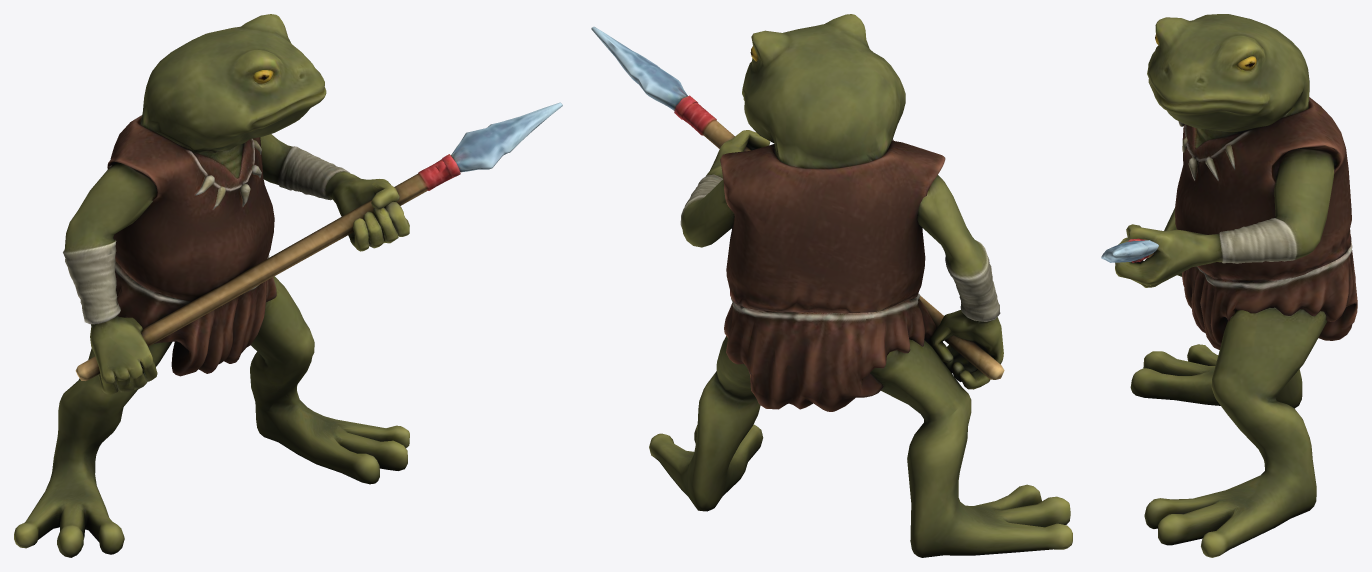
File: Bullywug.glb
3 renders of one model, left to right at view 1: azimuth 30°, elevation 25°; view 2: azimuth 150°, elevation 25°; view 3: azimuth 270°, elevation 25°, orthographic. The views are drawn at different scales.
Parts seen in each view (by area): view 1: body_low.001, spear_low.001, tooth_low.001; view 2: body_low.001, spear_low.001; view 3: body_low.001, spear_low.001, tooth_low.001.
Boxes of the visible parts, x1=… form: body_low.001: x1=14, y1=14, x2=409, y2=557; spear_low.001: x1=75, y1=102, x2=562, y2=380; tooth_low.001: x1=195, y1=139, x2=261, y2=209; body_low.001: x1=649, y1=14, x2=1072, y2=557; spear_low.001: x1=591, y1=26, x2=1004, y2=379; body_low.001: x1=1115, y1=14, x2=1357, y2=557; spear_low.001: x1=1101, y1=238, x2=1158, y2=262; tooth_low.001: x1=1178, y1=121, x2=1235, y2=180.
Size of the model in its own units: 6.75 by 5.74 by 2.92.
Materials: 1 (1 with a texture image).
